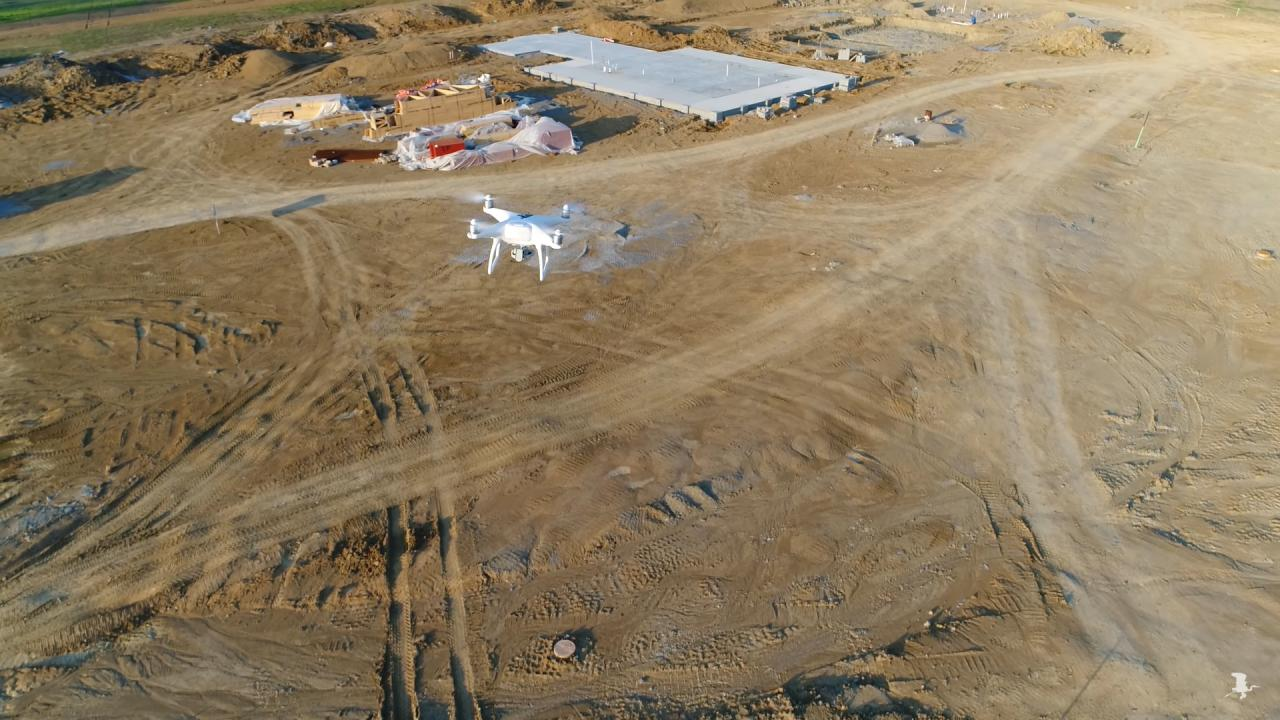Drone: (450, 182, 599, 288)
